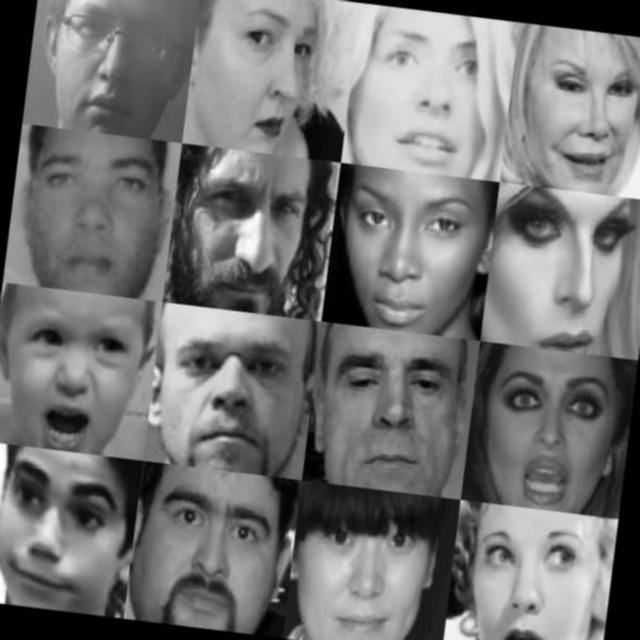angry: (484, 186, 640, 356), (148, 319, 306, 471), (0, 291, 139, 450), (180, 163, 314, 313)
fear: (476, 356, 625, 514), (462, 510, 597, 640)
happy: (0, 443, 124, 616), (529, 40, 640, 191)
neutral: (330, 166, 486, 336), (18, 131, 163, 294), (359, 14, 504, 176), (287, 491, 441, 640), (316, 332, 462, 488), (48, 0, 186, 134)
sad: (137, 475, 280, 635), (216, 0, 326, 150)
